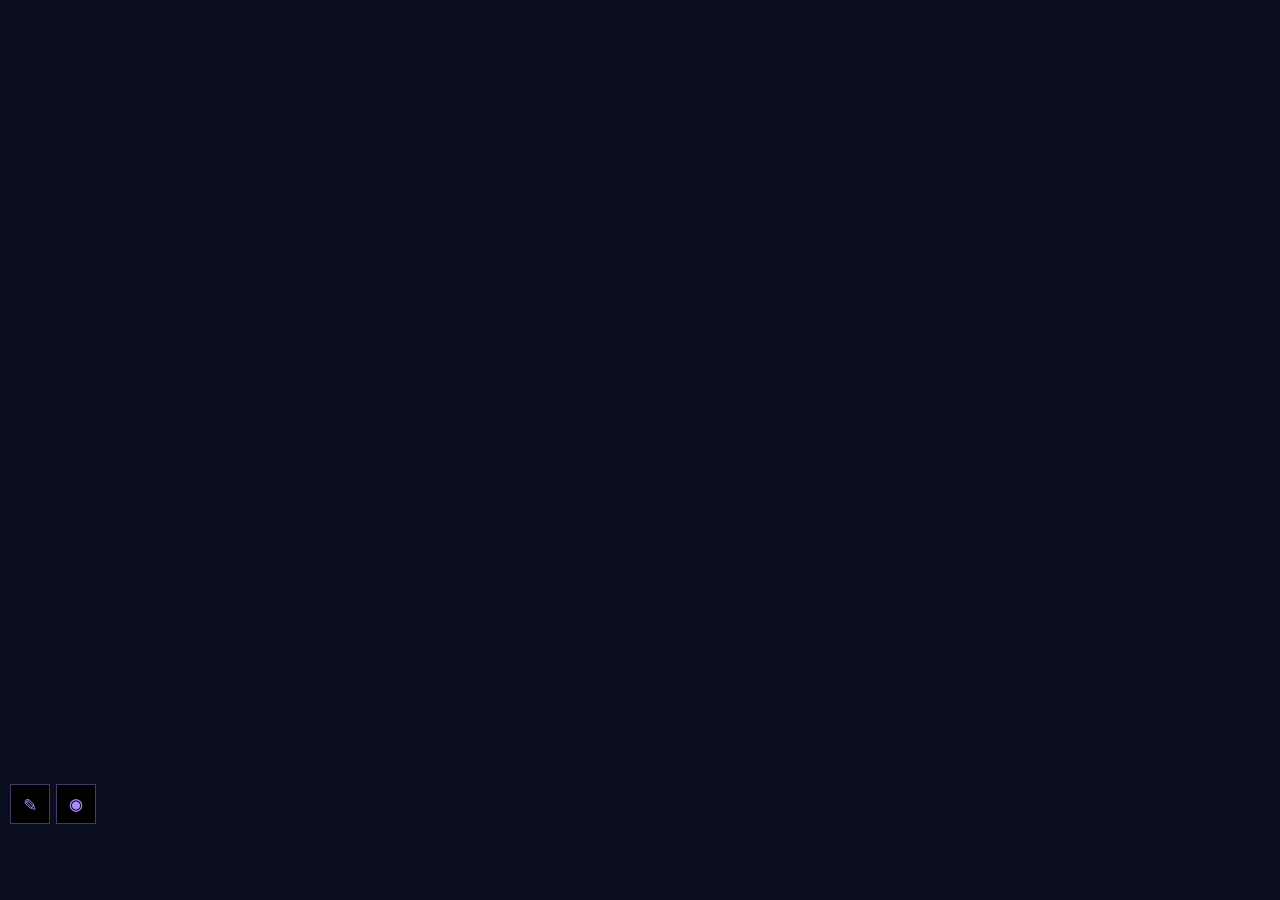
Test case: notepad controls › saves text using Cmd+Enter, clears the draft and stays open
Click the button named "Open dev notepad" at point(30, 804), box [10, 784, 50, 824]
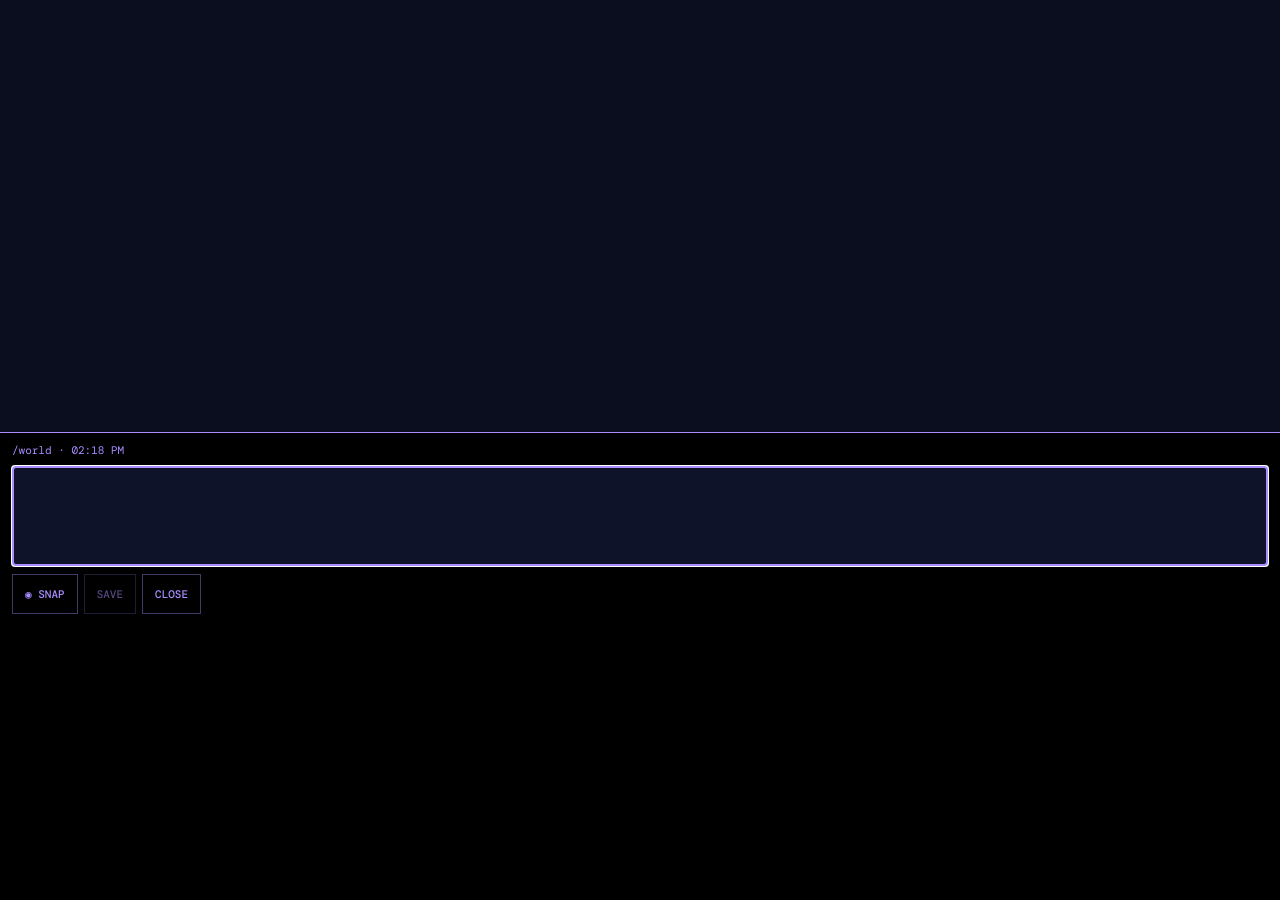
Type "Test wall" into the text box named "Dev note" at point(640, 516), box [12, 466, 1268, 566]
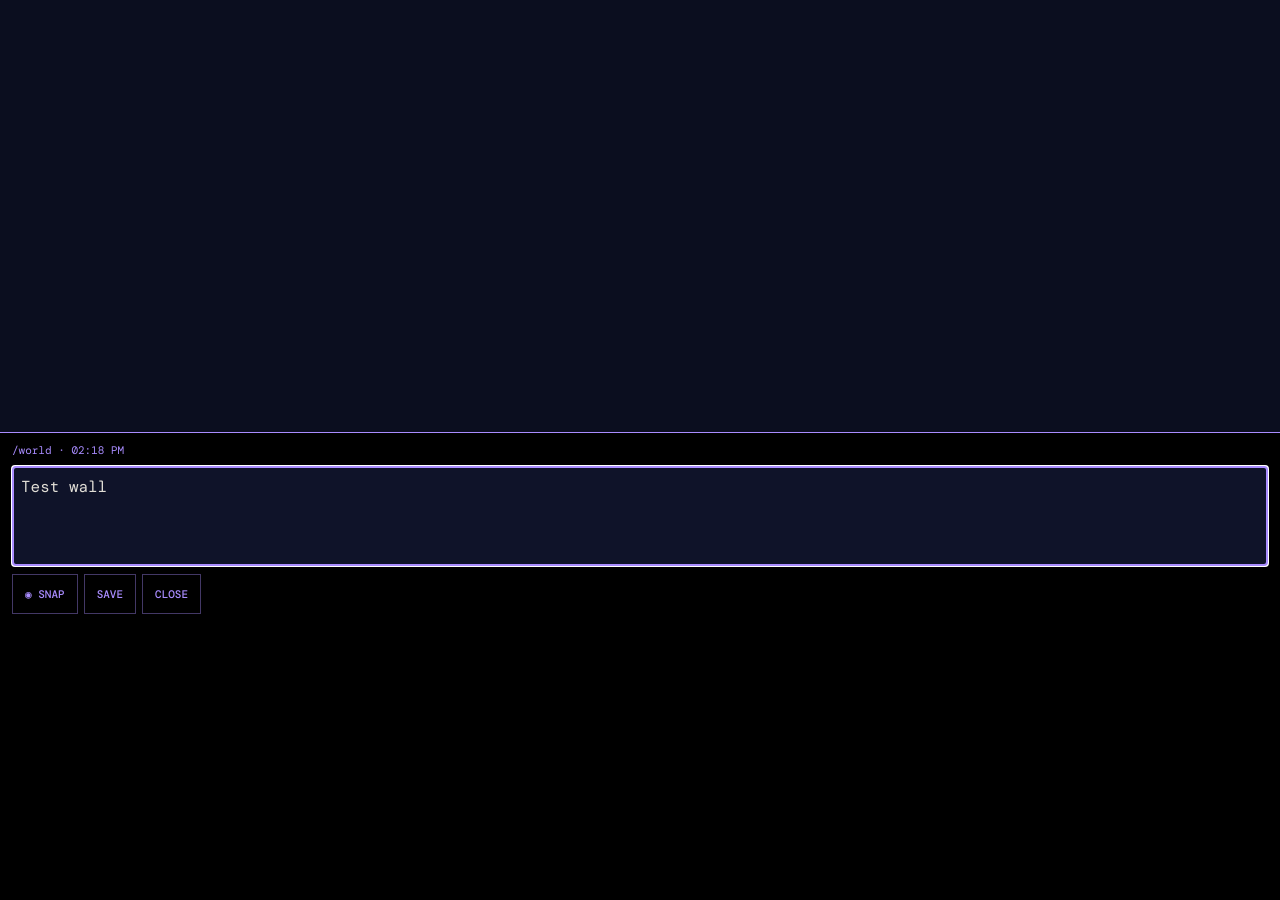
Press Enter in the text box named "Dev note", box [12, 466, 1268, 566]
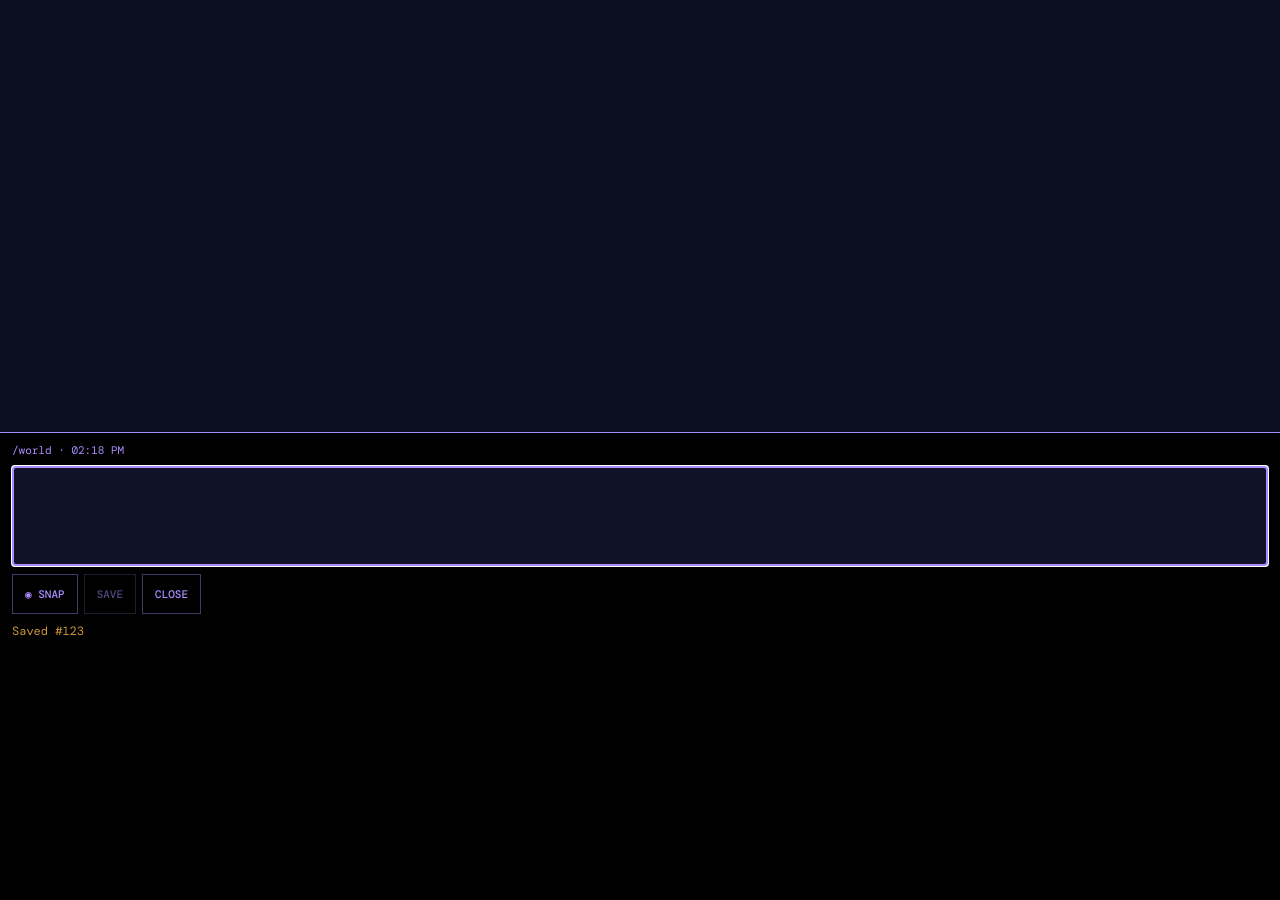
Now the dialog is shown, box [0, 432, 1279, 899]
Now the text "Saved #123" is shown, box [12, 623, 84, 639]
Now the text box named "Dev note" is empty, box [12, 466, 1268, 566]
